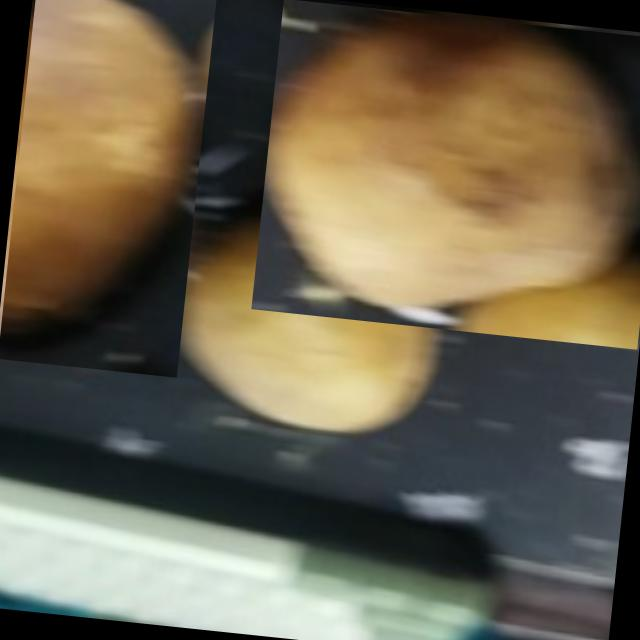Damaged potato: (251, 0, 640, 349), (0, 0, 216, 377)
Potato: (155, 205, 452, 448)
